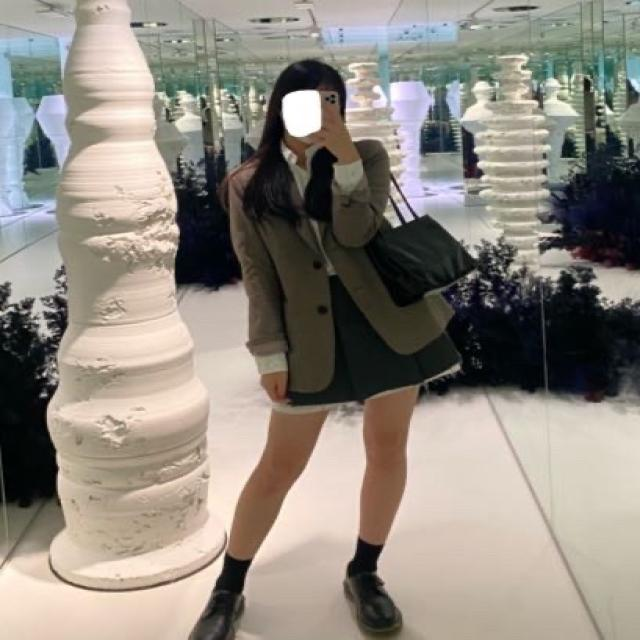blazer: (230, 138, 455, 395)
skirt: (273, 273, 464, 407)
